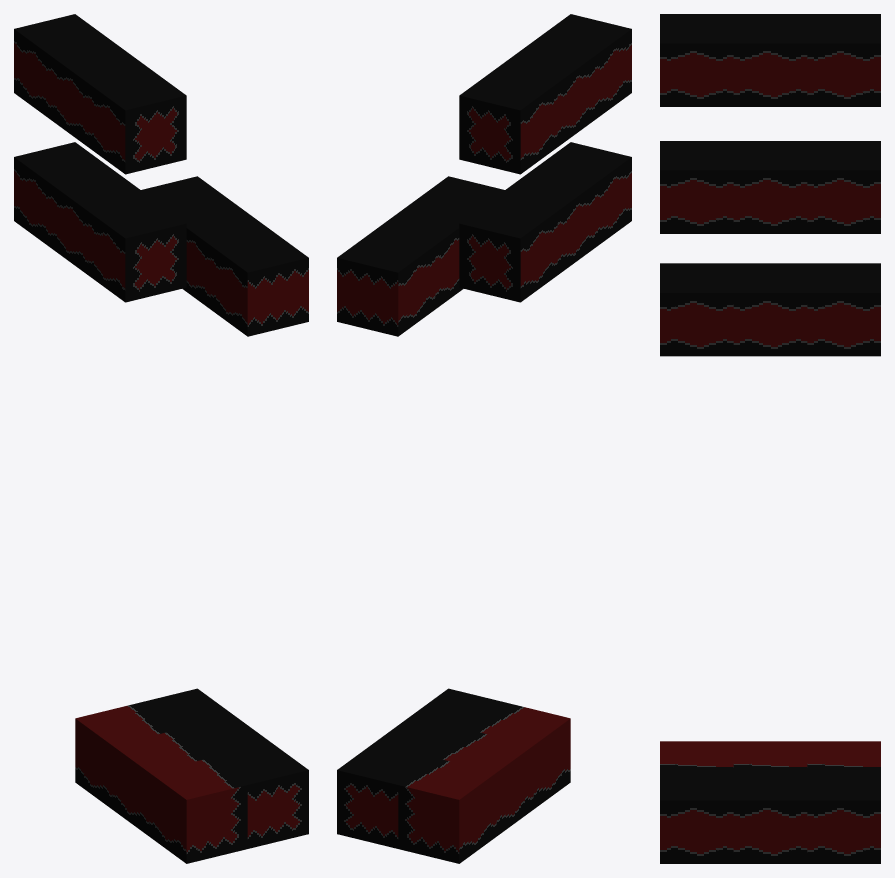
Rendered from Luna4Fragil21Solo.glb.
3 views of the same model, side by side, from view 1: azimuth 30°, elevation 25°; view 2: azimuth 150°, elevation 25°; view 3: azimuth 270°, elevation 25° (orthographic).
Visible parts, largest first — view 1: Setor_3, Setor_4; view 2: Setor_3, Setor_4; view 3: Setor_3, Setor_4.
Part boxes in pixels (x1,y1,x2,y2): Setor_3: [14, 14, 247, 863]; Setor_4: [136, 176, 308, 848]; Setor_3: [398, 14, 631, 863]; Setor_4: [337, 176, 509, 848]; Setor_3: [660, 14, 880, 770]; Setor_4: [660, 263, 880, 863].
Size of the model in its own units: 3.12 by 12.48 by 3.28.
Materials: 1 (1 with a texture image).
